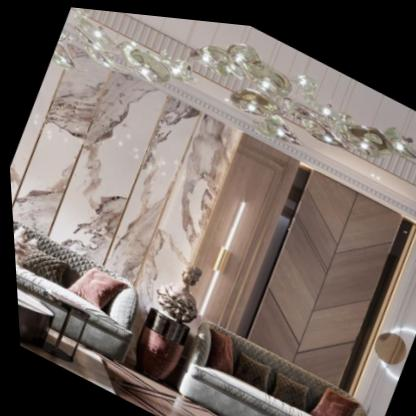Sofa: (163, 306, 382, 416), (10, 210, 150, 360)
Wall Panel: (1, 28, 416, 398)
